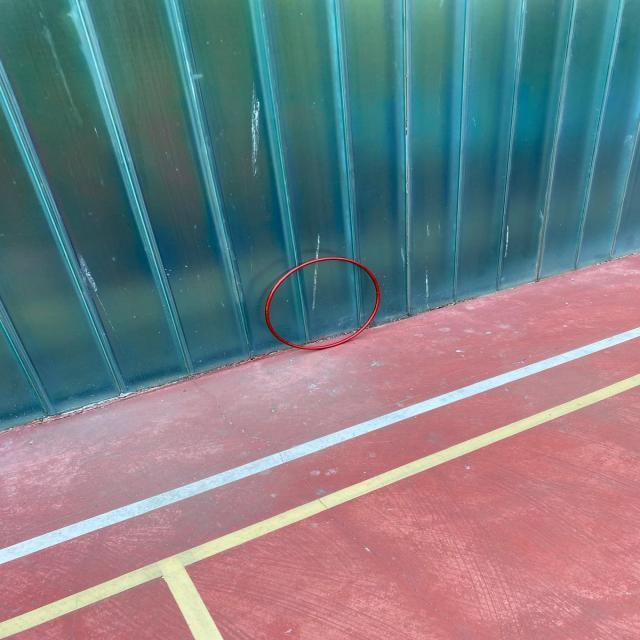Circle: (264, 256, 381, 351)
